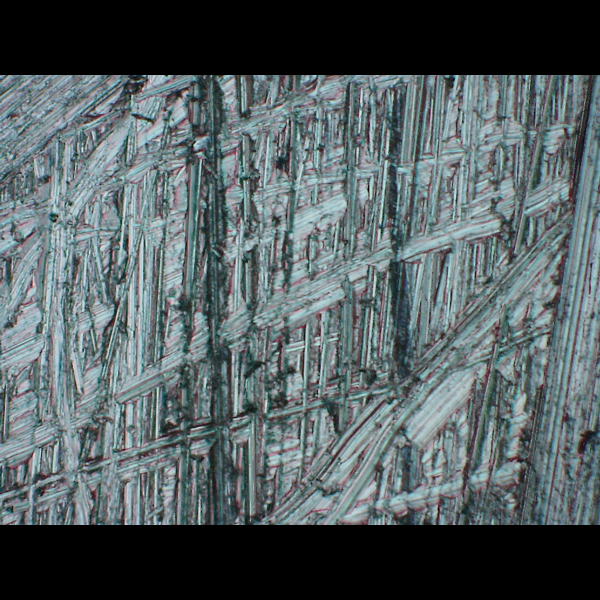d: (0, 75, 597, 522)
